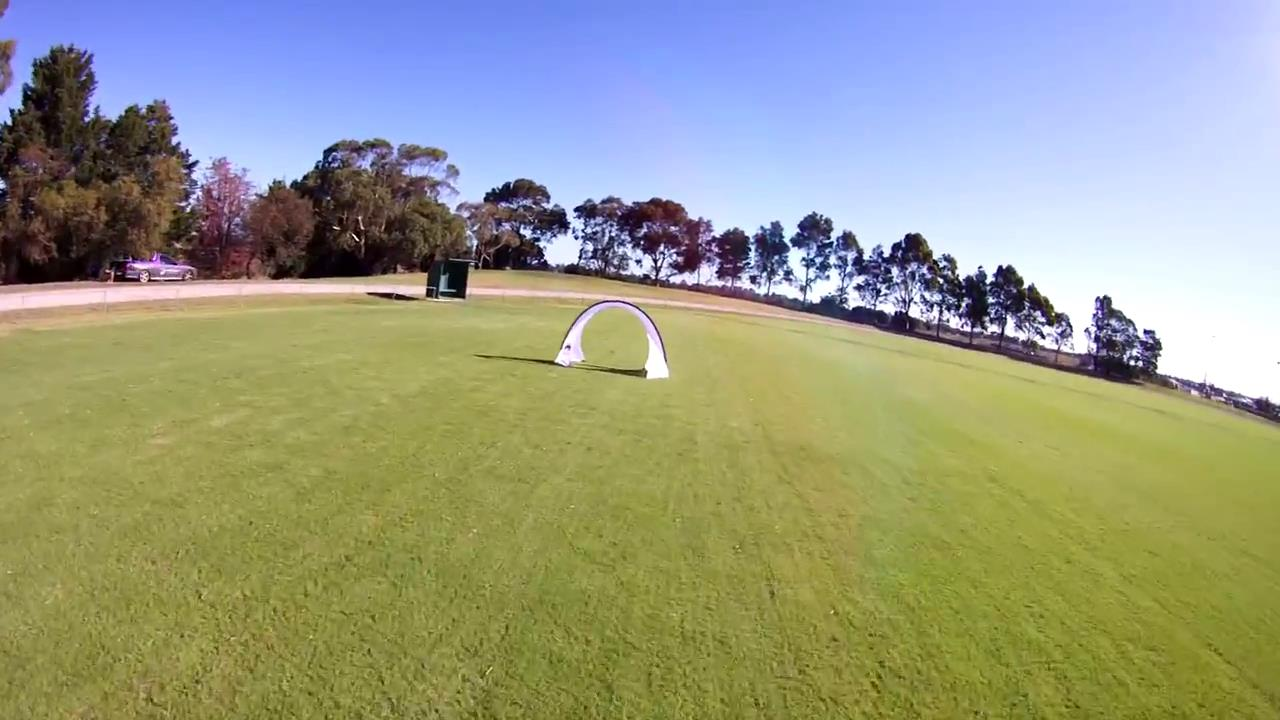gate: (555, 299, 671, 381)
